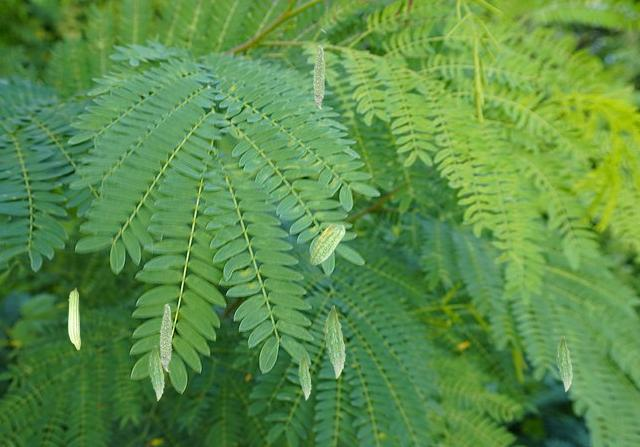ampalaya: (324, 304, 345, 379), (309, 223, 345, 265), (556, 335, 572, 392), (148, 344, 164, 401), (159, 303, 172, 372), (67, 287, 81, 350), (312, 44, 325, 109), (298, 354, 311, 400)
